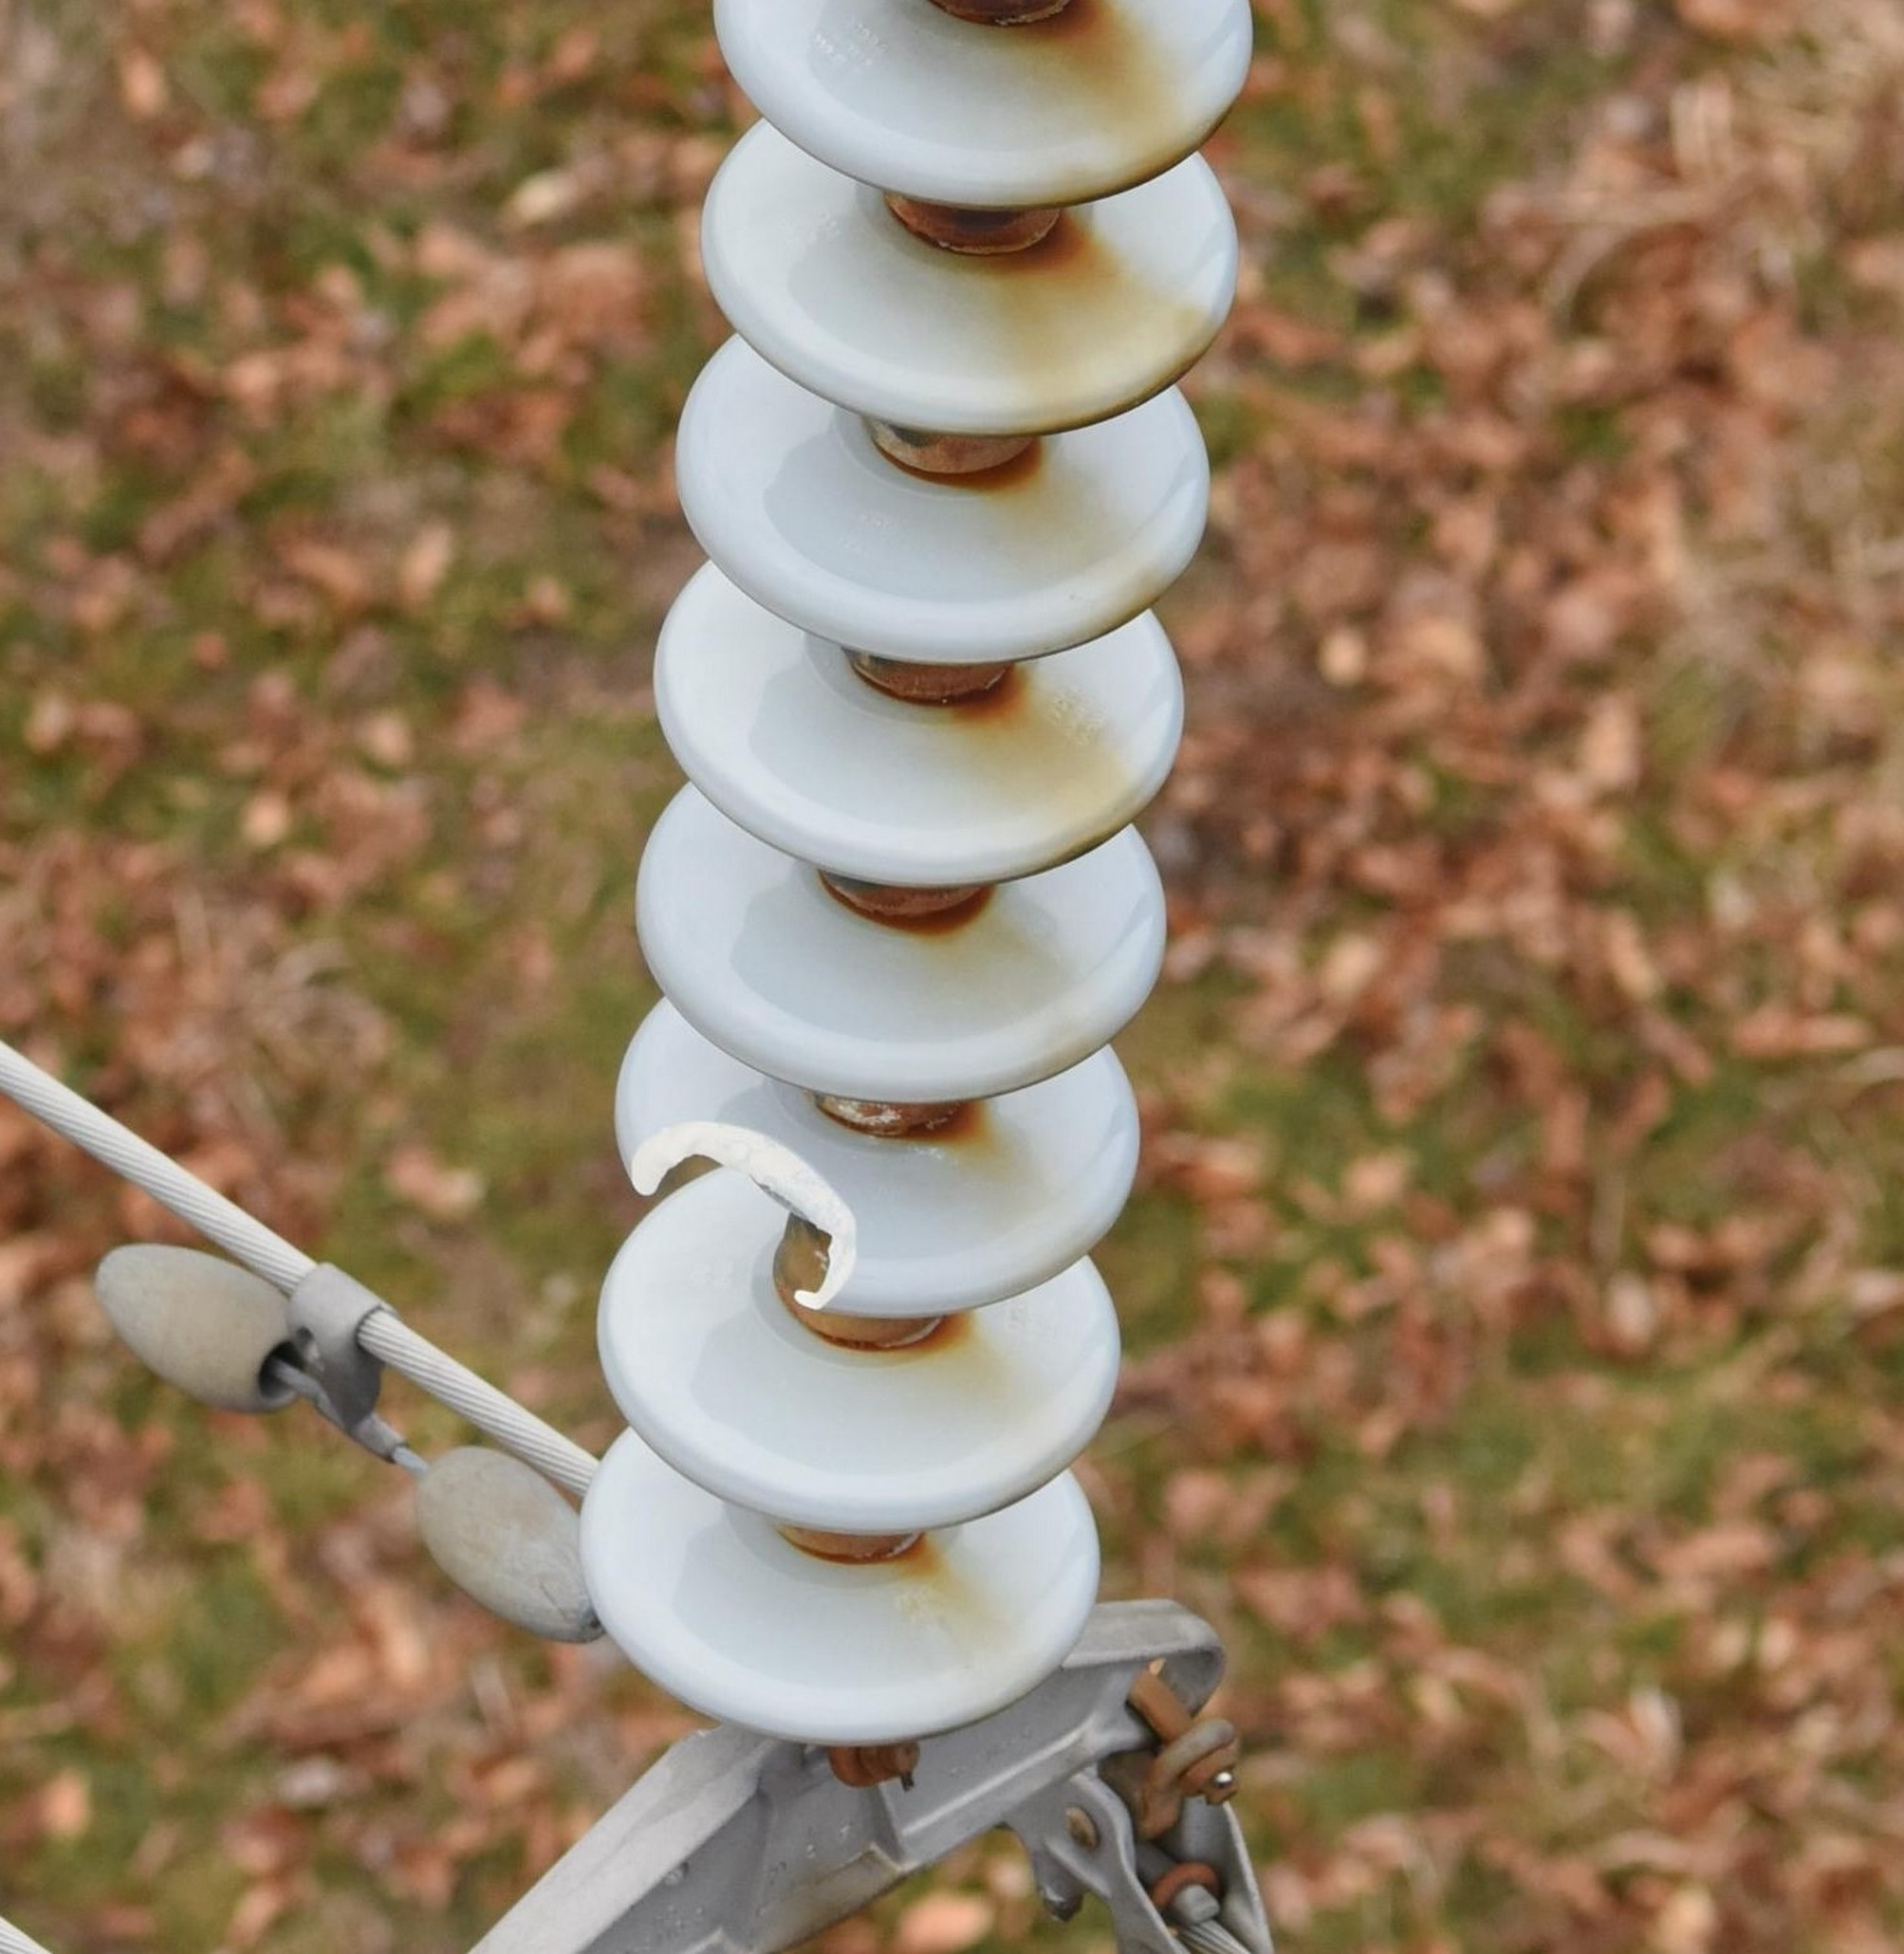insulator breakage: (579, 989, 1178, 1338)
